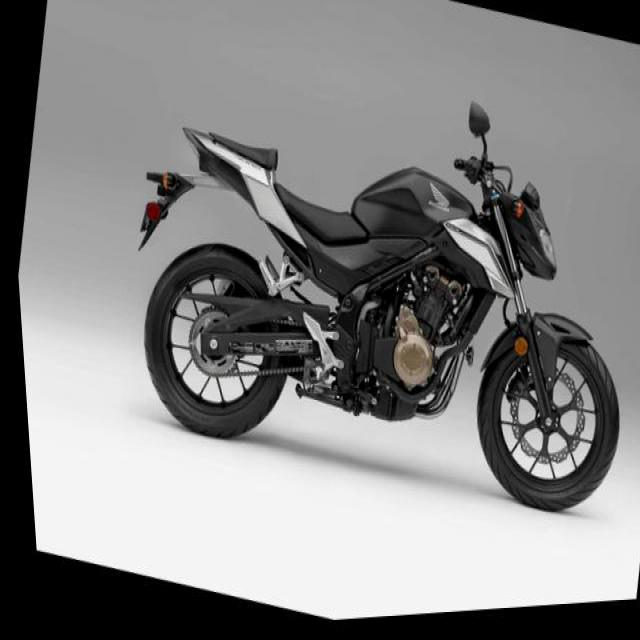CB500F: (94, 66, 639, 562)
